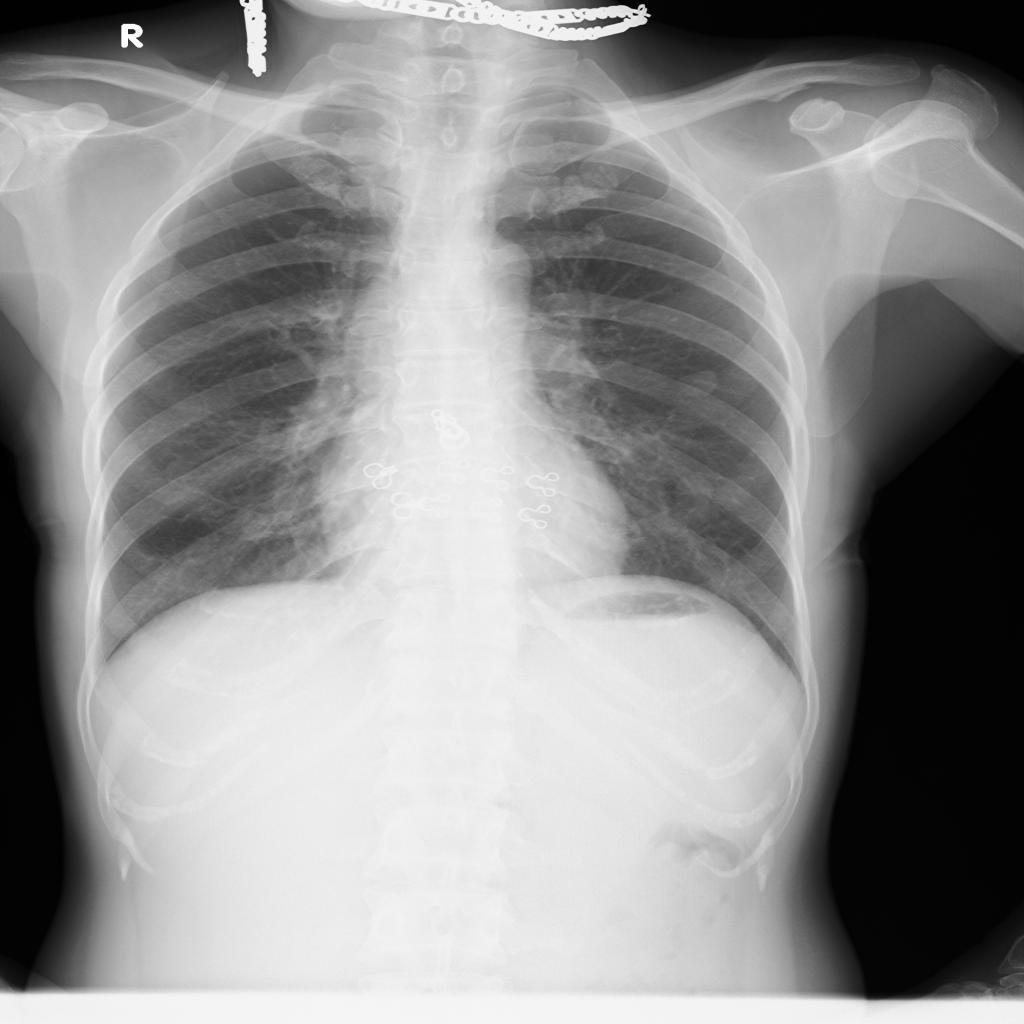Nodule: (674, 474, 714, 515), (670, 367, 718, 399)
